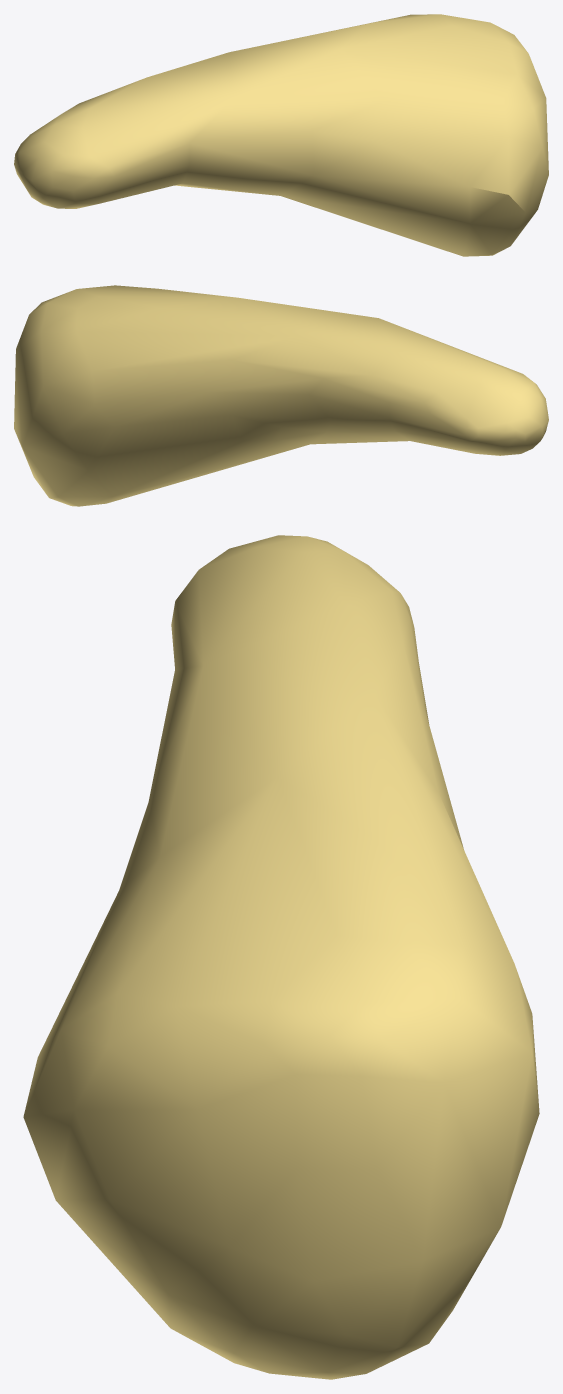
Rendered from fma73462_fj1735.glb.
3 renders of one model, top to bottom at view 1: azimuth 30°, elevation 25°; view 2: azimuth 150°, elevation 25°; view 3: azimuth 270°, elevation 25°, orthographic. The views are drawn at different scales.
Visible parts, largest first — view 1: FMA73462_FJ1735; view 2: FMA73462_FJ1735; view 3: FMA73462_FJ1735.
Part boxes in pixels (left/top/right/bottom): FMA73462_FJ1735: left=14, top=14, right=548, bottom=256; FMA73462_FJ1735: left=14, top=285, right=548, bottom=506; FMA73462_FJ1735: left=23, top=535, right=539, bottom=1379.
Size of the model in its own units: 0.0151 by 0.00658 by 0.00666.
